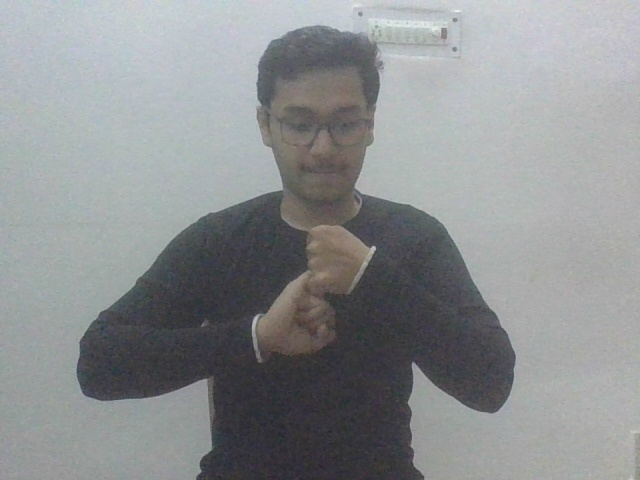S: (259, 214, 365, 355)
